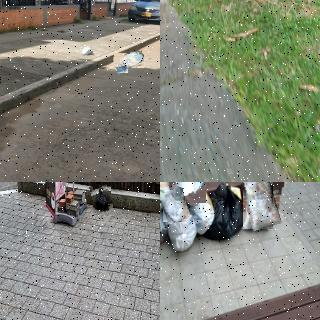Garbage: (209, 184, 245, 239), (238, 182, 277, 230), (167, 215, 197, 250), (161, 189, 189, 223), (171, 182, 209, 204), (91, 183, 113, 214), (113, 51, 145, 70), (160, 182, 171, 210), (79, 43, 93, 56), (117, 66, 128, 74)
